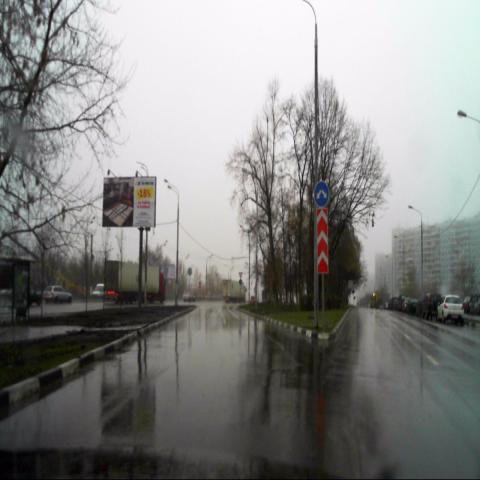4_2_3: (314, 182, 329, 208)
